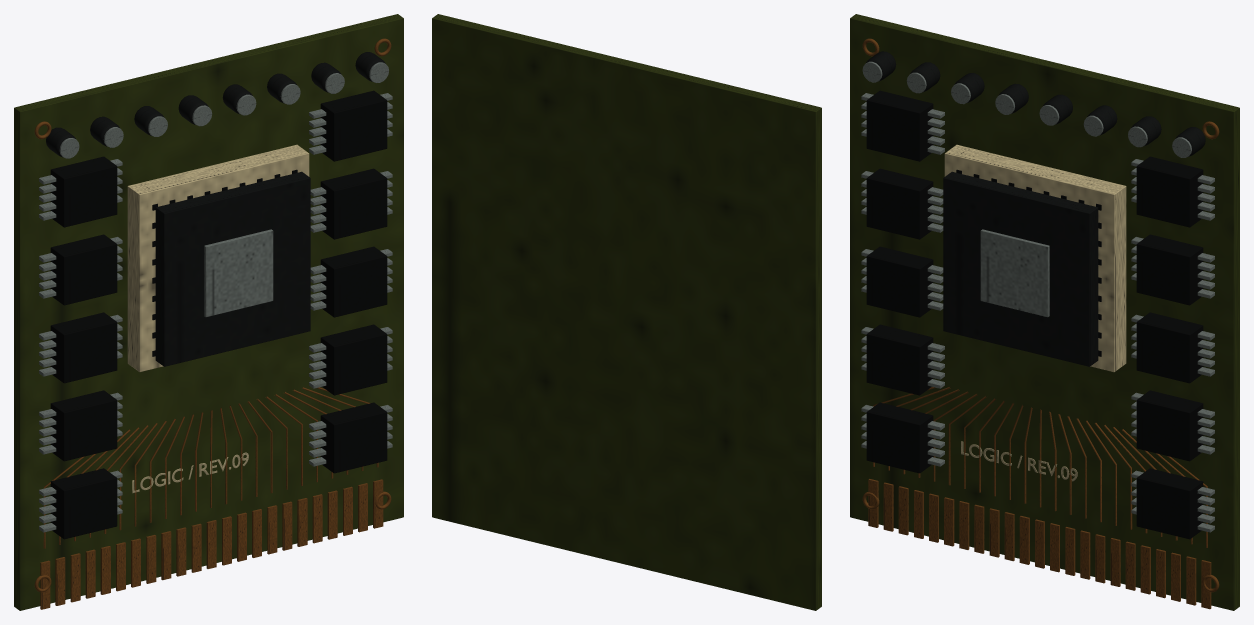
File: code.glb
3 views of the same model, side by side, from view 1: azimuth 30°, elevation 25°; view 2: azimuth 150°, elevation 25°; view 3: azimuth 330°, elevation 25° (orthographic).
Parts seen in each view (by area): view 1: Thin substrate, Processor package, CPU socket, Exposed die, DIP integrated circuit.001, DIP integrated circuit.002, DIP integrated circuit.003, DIP integrated circuit.005, DIP integrated circuit.009, DIP integrated circuit.006, DIP integrated circuit, DIP integrated circuit.004 (+17 smaller); view 2: Thin substrate; view 3: Thin substrate, Processor package, CPU socket, Exposed die, DIP integrated circuit.006, DIP integrated circuit.007, DIP integrated circuit.008, DIP integrated circuit, DIP integrated circuit.004, DIP integrated circuit.001, DIP integrated circuit.003, DIP integrated circuit.005 (+18 smaller).
Part boxes in pixels (bbox=[...]): Thin substrate: bbox=[14, 14, 403, 610]; Processor package: bbox=[155, 171, 310, 366]; CPU socket: bbox=[127, 144, 309, 372]; Exposed die: bbox=[204, 229, 273, 317]; DIP integrated circuit.001: bbox=[50, 390, 117, 461]; DIP integrated circuit.002: bbox=[50, 312, 117, 383]; DIP integrated circuit.003: bbox=[50, 234, 117, 305]; DIP integrated circuit.005: bbox=[320, 402, 387, 473]; DIP integrated circuit.009: bbox=[320, 90, 387, 161]; DIP integrated circuit.006: bbox=[320, 324, 387, 395]; DIP integrated circuit: bbox=[50, 468, 117, 539]; DIP integrated circuit.004: bbox=[50, 156, 117, 227]; Thin substrate: bbox=[432, 14, 821, 610]; Thin substrate: bbox=[850, 14, 1239, 610]; Processor package: bbox=[943, 171, 1098, 366]; CPU socket: bbox=[944, 144, 1126, 372]; Exposed die: bbox=[980, 229, 1049, 317]; DIP integrated circuit.006: bbox=[1136, 390, 1203, 461]; DIP integrated circuit.007: bbox=[1136, 312, 1203, 383]; DIP integrated circuit.008: bbox=[1136, 234, 1203, 305]; DIP integrated circuit: bbox=[866, 402, 933, 473]; DIP integrated circuit.004: bbox=[866, 90, 933, 161]; DIP integrated circuit.001: bbox=[866, 324, 933, 395]; DIP integrated circuit.003: bbox=[866, 168, 933, 239]; DIP integrated circuit.005: bbox=[1136, 468, 1203, 539].
Bounding box in the file's own units: 1.92 × 2.4 × 0.2918.
Materials: 6 (6 with a texture image).
